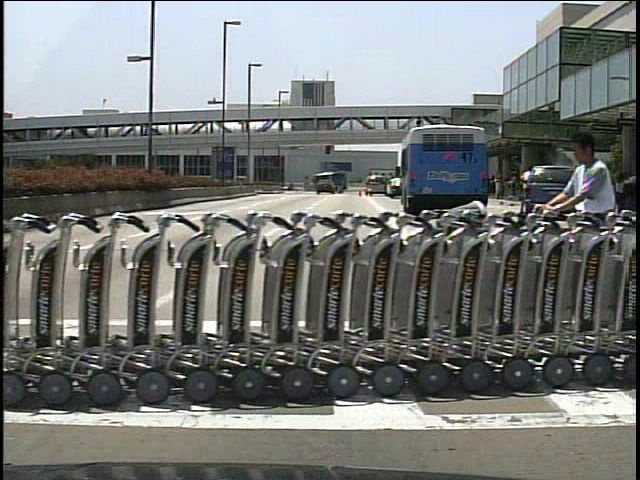person: (545, 126, 622, 358), (573, 163, 591, 224), (512, 162, 533, 213), (580, 165, 601, 214)
